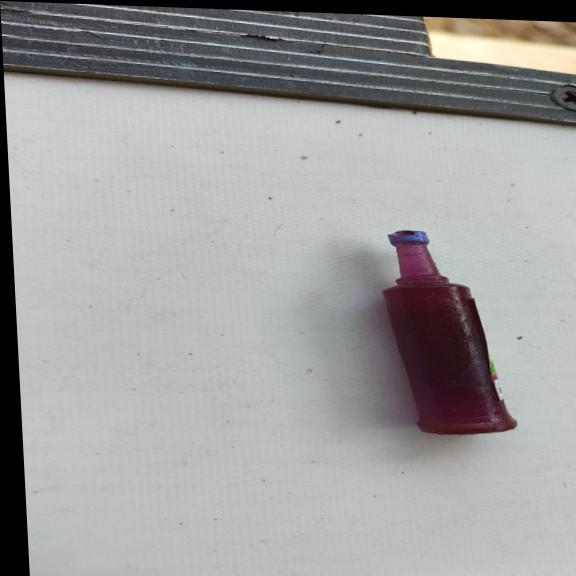Plastik: (380, 226, 521, 437)
